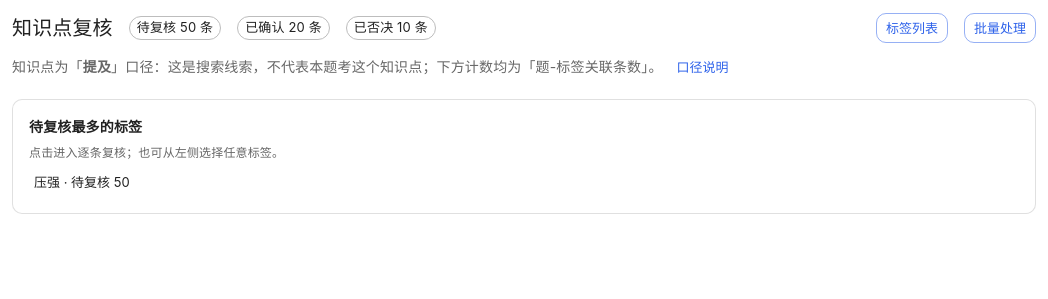
T25 · KnowledgeReviewPage 只读态 › 有权限：批量与逐条按钮均可用（零影响）
Click the button "压强 · 待复核 50". click: (82, 182)
box: [29,166,135,197]
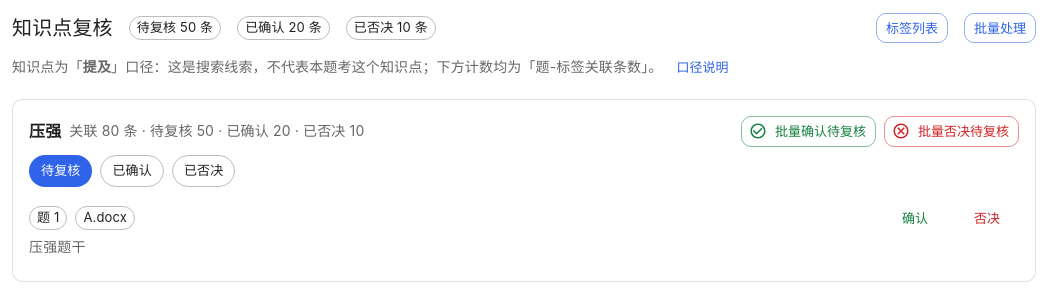
Check: the button "批量确认待复核" is enabled, box [741,116,876,147]
Check: the button "确认" is enabled, box [883,202,947,233]
